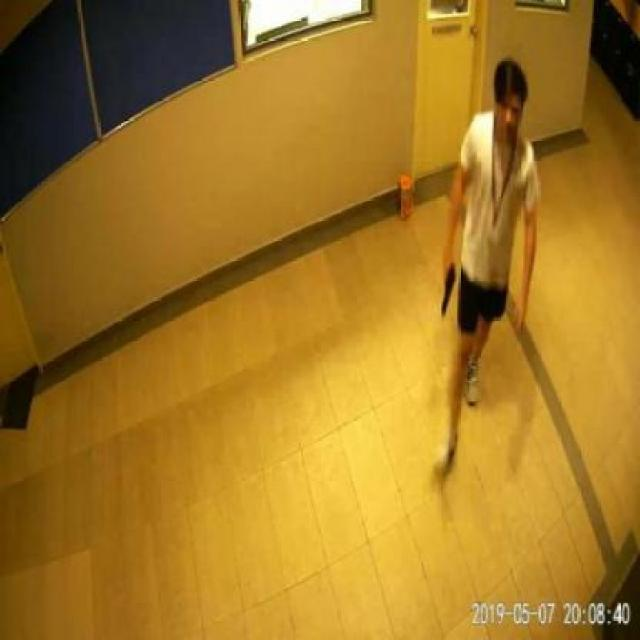gun: (438, 259, 454, 313)
